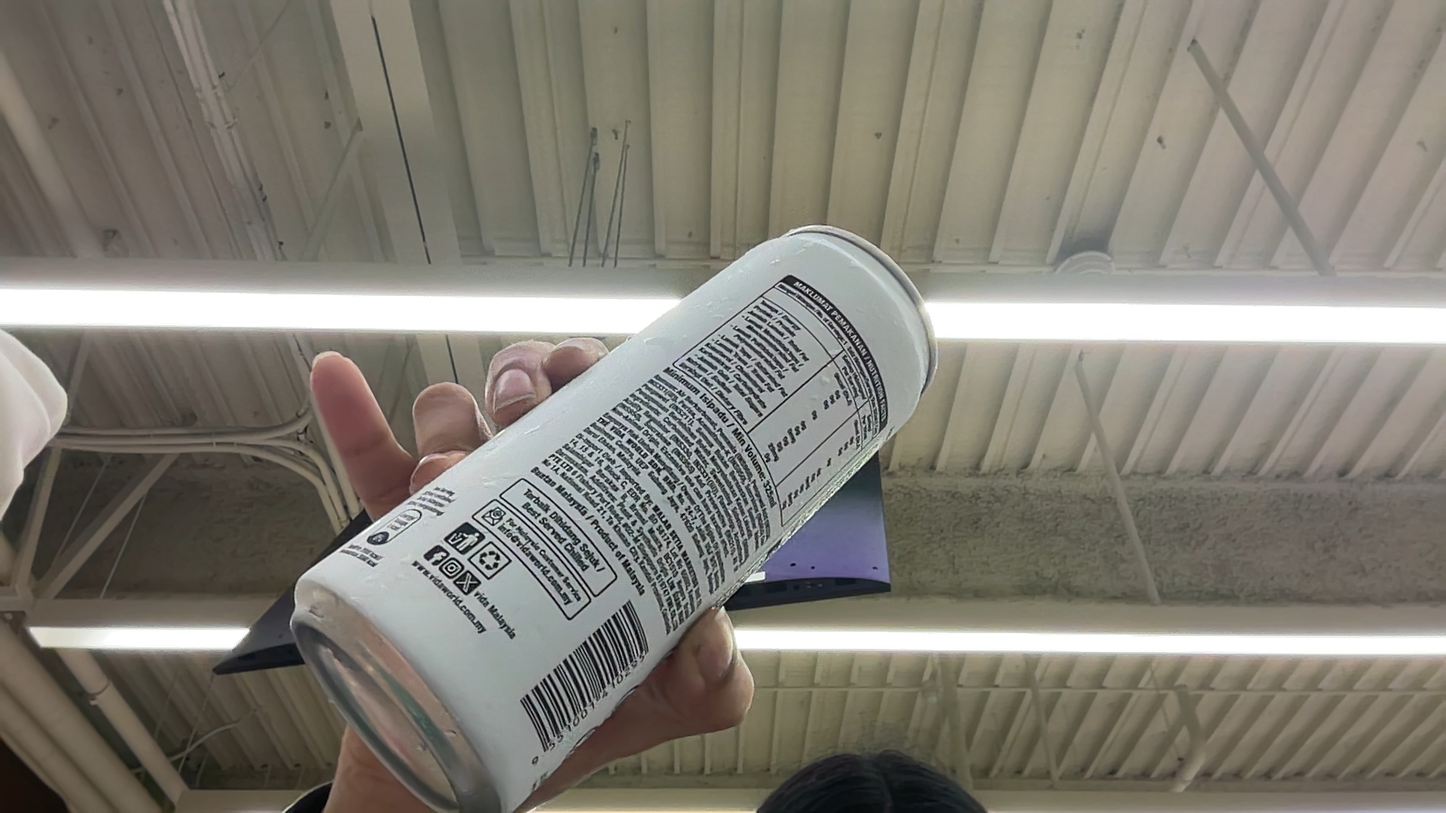Metal: (281, 199, 974, 802)
